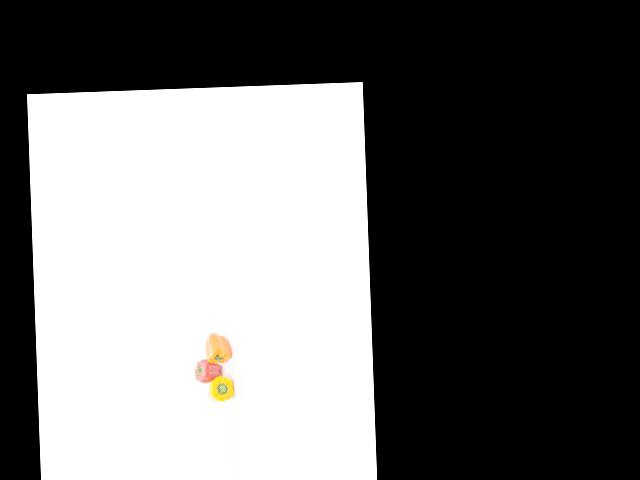bell_pepper: (206, 372, 235, 403)
